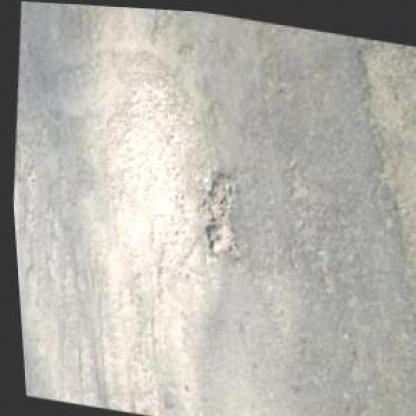pothole: (322, 29, 414, 365), (192, 165, 242, 258)
